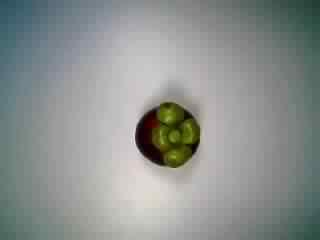mangosteen: (125, 97, 203, 172)
